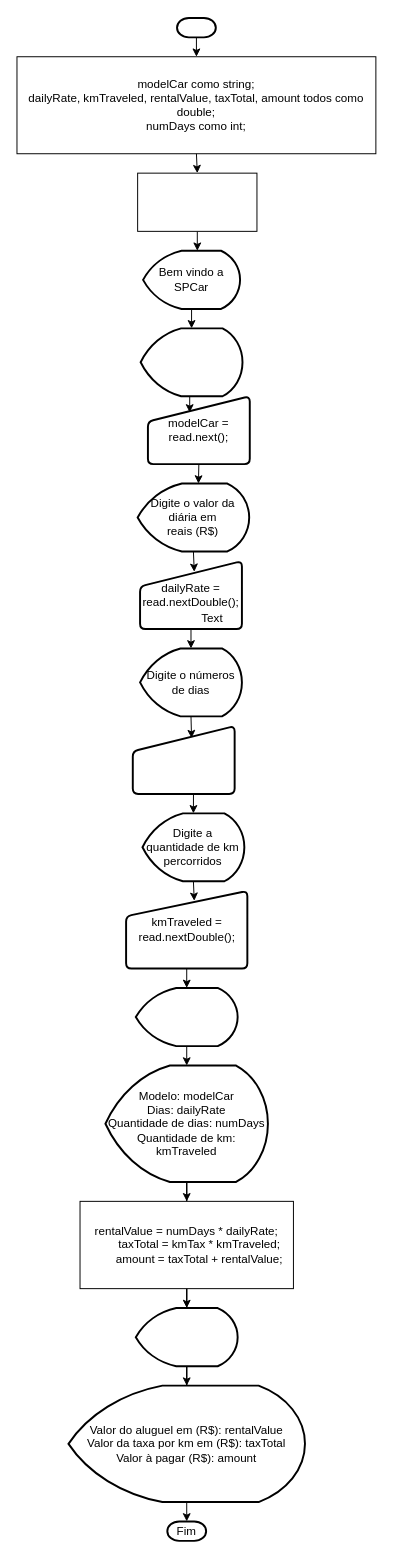
Image size: 393x1558. Some labels were removed from this diagram. Each missing label, with the centre of its shape:
"Dados do aluguel:" goes at (186,1337).
"Dados do cliente:" goes at (186,1016).
"Digite o modelo do caro" goes at (191,362).
"início" goes at (196,27).
"kmTax como double e valor de 0.20 R$" goes at (197,201).
"numDays = read.nextInt();" goes at (183,759).
